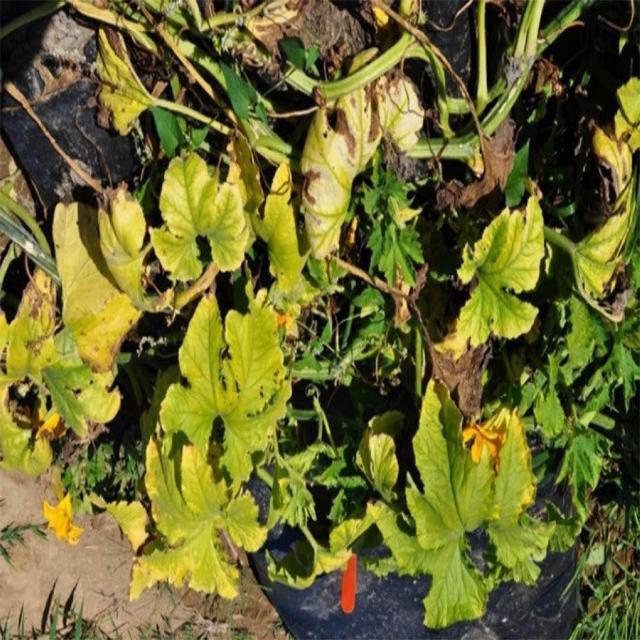Bacterial_Spot: (161, 30, 640, 432), (0, 0, 149, 497)
